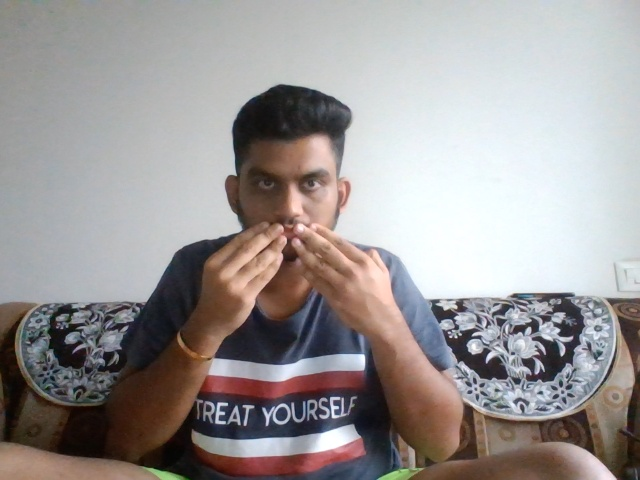Thank You: (194, 218, 405, 327)
